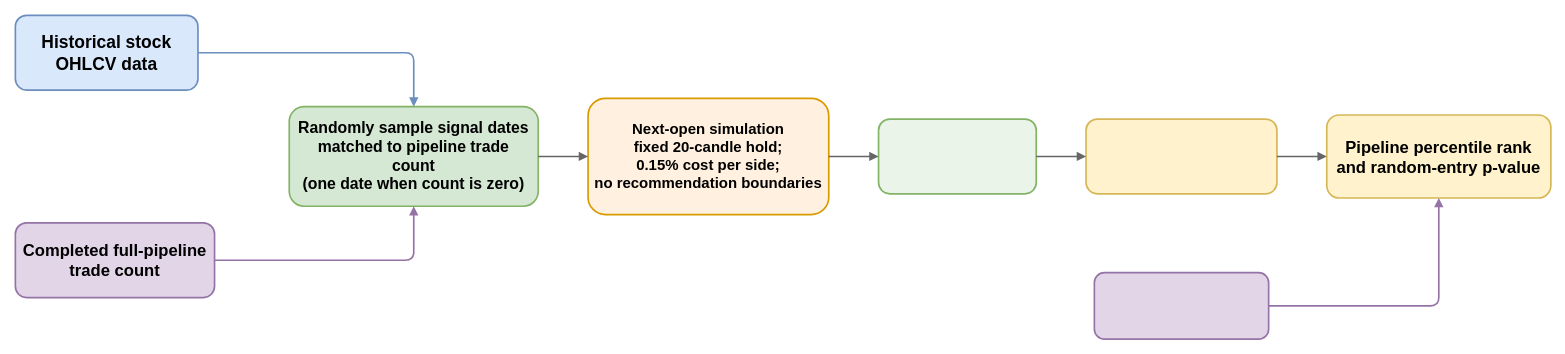
Image size: 1565x354. Some labels were removed from this diagram. Here are the shapes that lost their labels. From the top down, the box of each, then its label:
(877, 118, 1037, 194): Repeat 1,000 times
(1085, 118, 1277, 194): Distribution of random total returns
(1093, 271, 1269, 339): Full-pipeline total return
